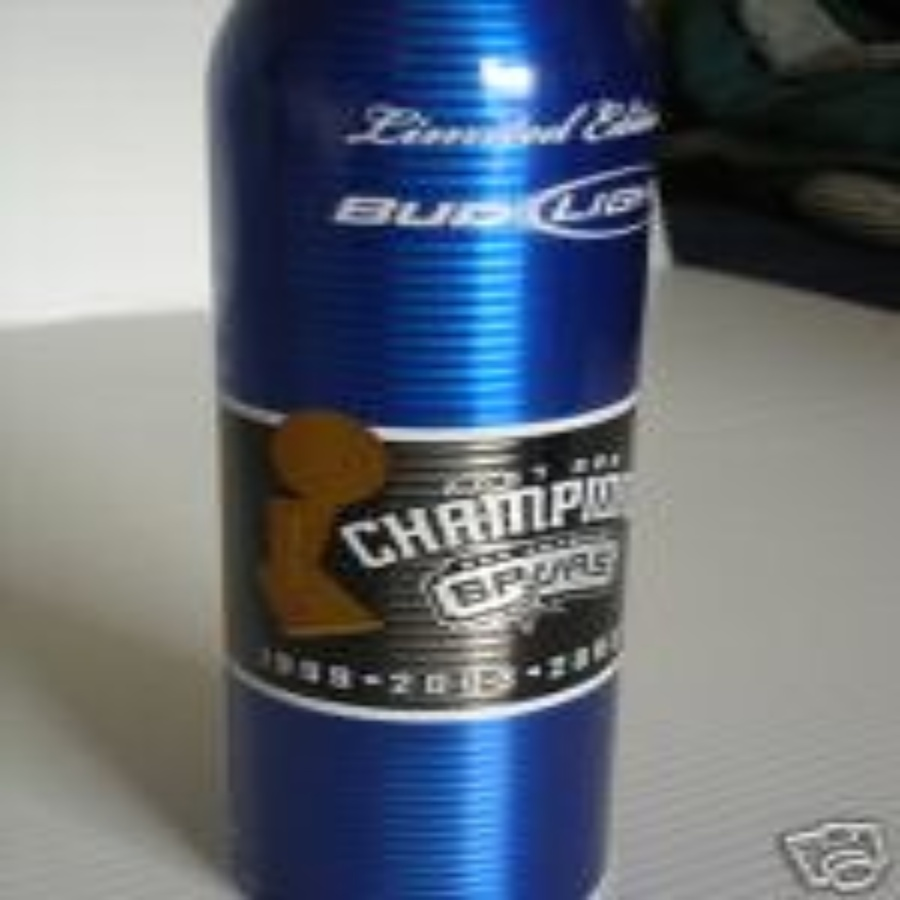beer: (198, 9, 659, 899)
